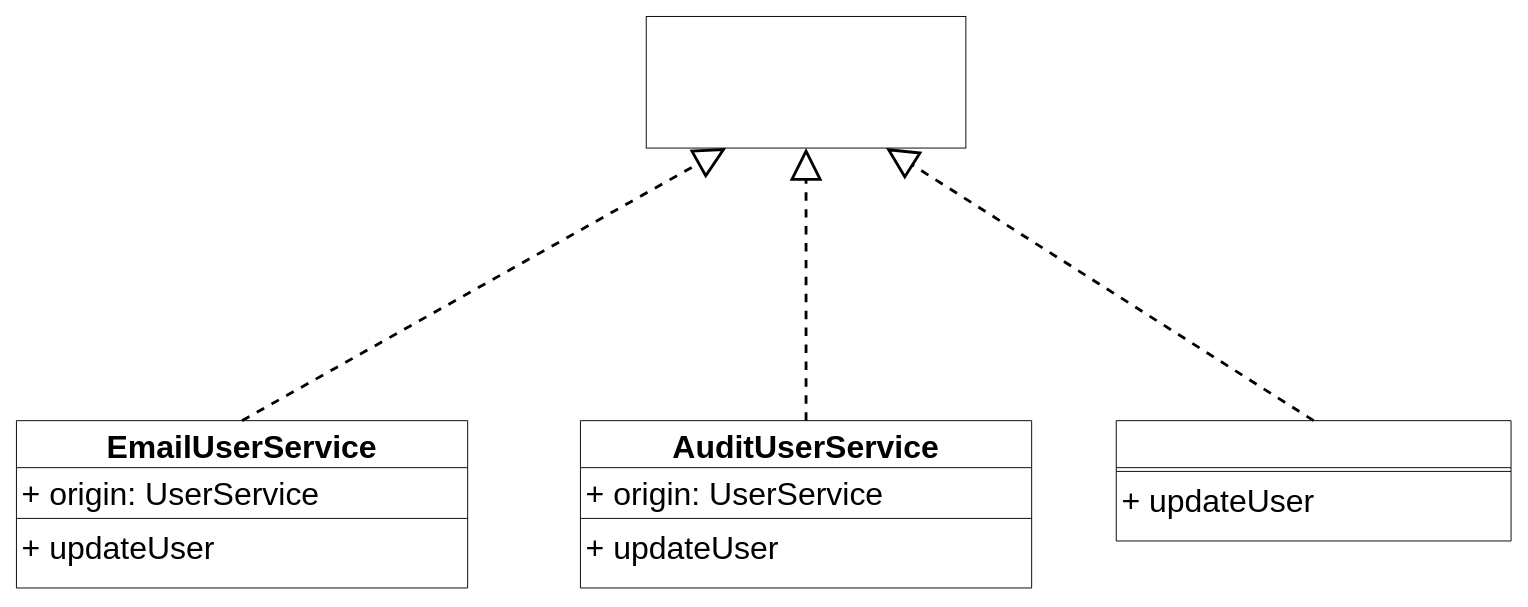
Some shapes in this 1528 by 607 pixel diagram are drawn without their labels. The shapes that lost their labels are listed below. From the top down, each one's box as (x1, y1, x2, y2) in pixels, then its label:
(645, 16, 966, 148): «interface» UserService
(1115, 420, 1511, 541): UserServiceImpl
